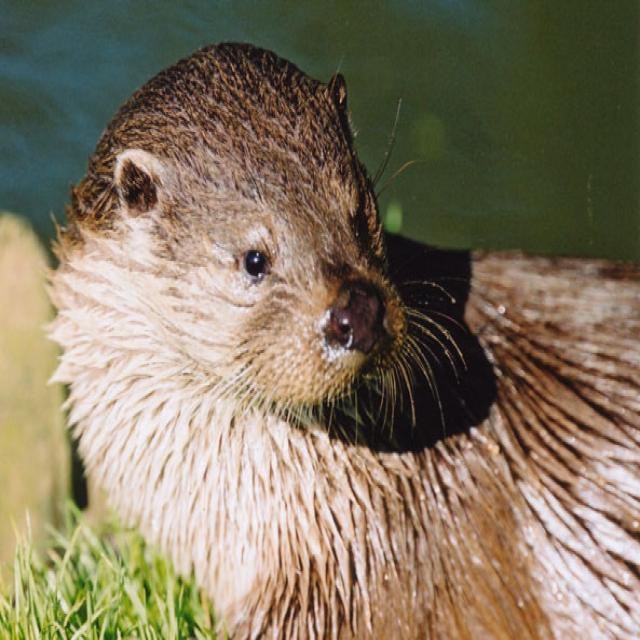otter: (57, 40, 640, 640)
